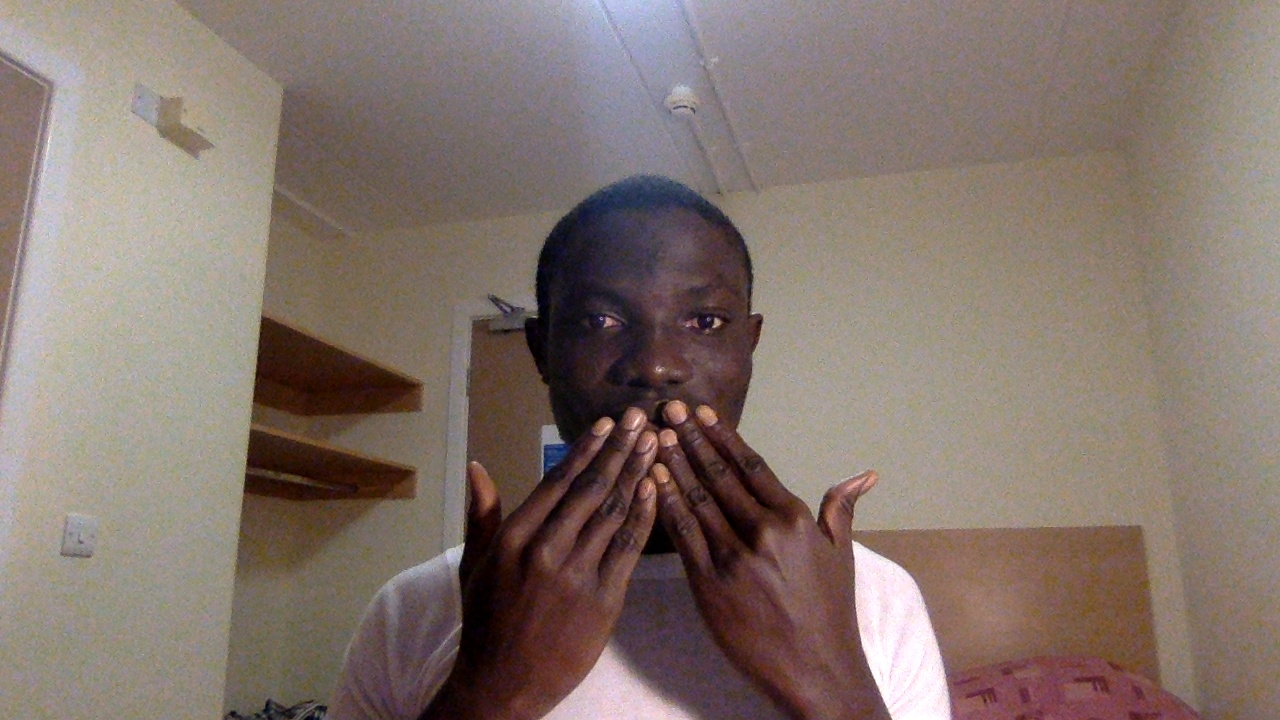Thank You: (449, 398, 886, 703)
